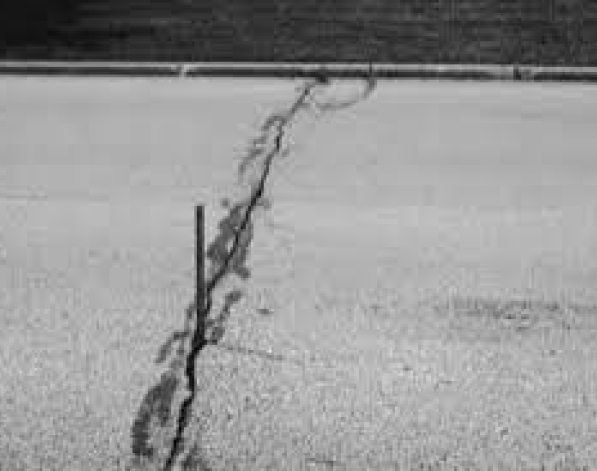Retak Melintang: (100, 73, 423, 471)
